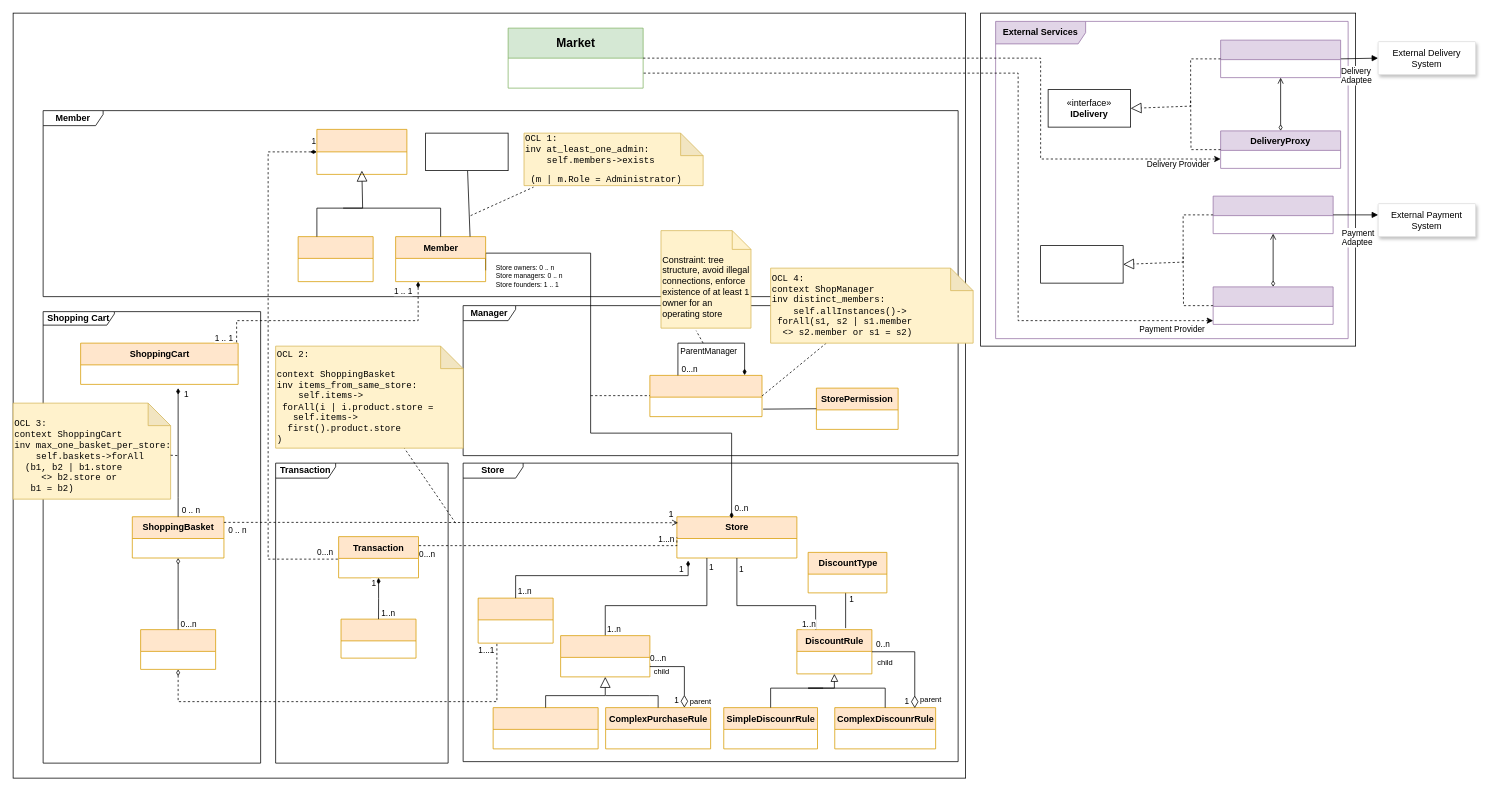
Some shapes in this 1493 by 797 pixel diagram are drawn without their labels. The shapes that lost their labels are listed below. From the top down, each one's centre as x and y in pixels, then its label:
(x=1280, y=58): RealDeliveryAdapter
(x=361, y=151): User
(x=466, y=151): Role: Member, Administrator
(x=1272, y=214): RealPaymentAdapter
(x=335, y=259): Guest
(x=1081, y=264): «interface» IPayment
(x=1272, y=305): PaymentProxy
(x=705, y=396): StoreManager
(x=378, y=638): TransactionItem
(x=515, y=620): Product
(x=178, y=649): ShoppingItem
(x=605, y=656): PurchaseRule
(x=545, y=728): SimplePurchaseRule
